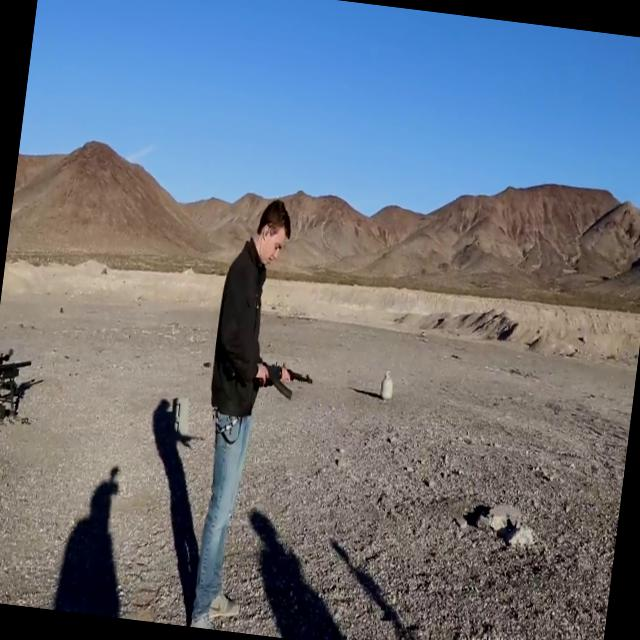long weapon: (222, 342, 316, 409), (0, 330, 48, 417)
